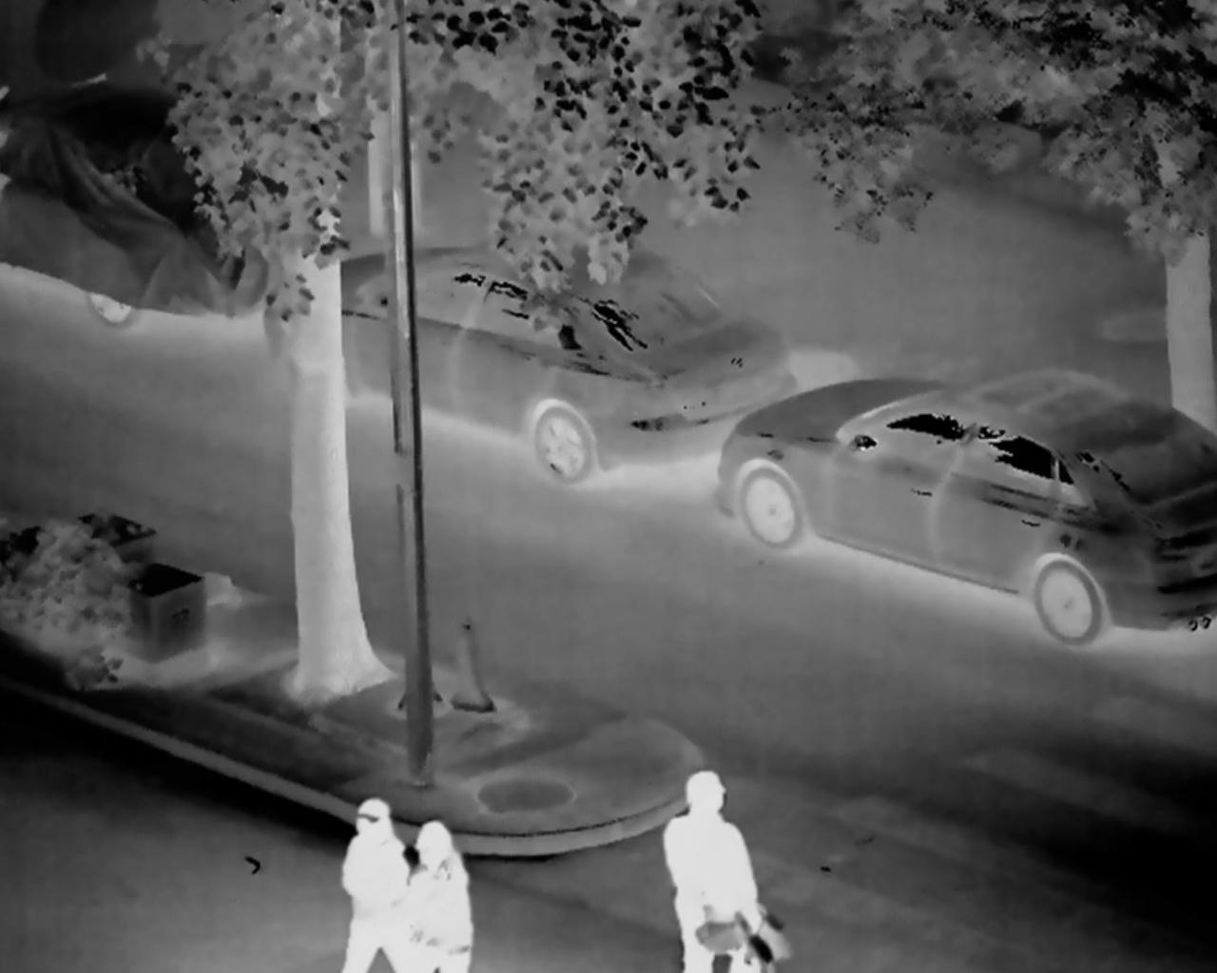person: (647, 765, 761, 973), (316, 782, 415, 973), (402, 819, 478, 973)
